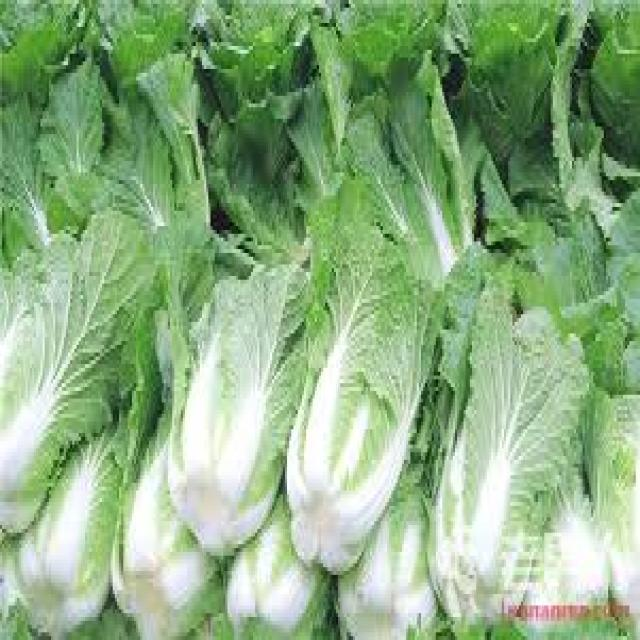biodegradable: (287, 58, 489, 567), (421, 276, 585, 636), (0, 303, 162, 636), (0, 203, 153, 537), (158, 234, 309, 559), (189, 0, 334, 238), (328, 395, 460, 636), (89, 0, 206, 222), (93, 0, 208, 222), (444, 0, 582, 153), (474, 111, 606, 257), (221, 479, 334, 636), (508, 437, 602, 625), (548, 0, 638, 180), (493, 192, 608, 314), (585, 376, 638, 633), (98, 62, 181, 219), (38, 54, 104, 215), (0, 92, 53, 253), (0, 0, 87, 96), (597, 153, 638, 322), (574, 283, 638, 391), (544, 590, 634, 636), (434, 602, 523, 636)
